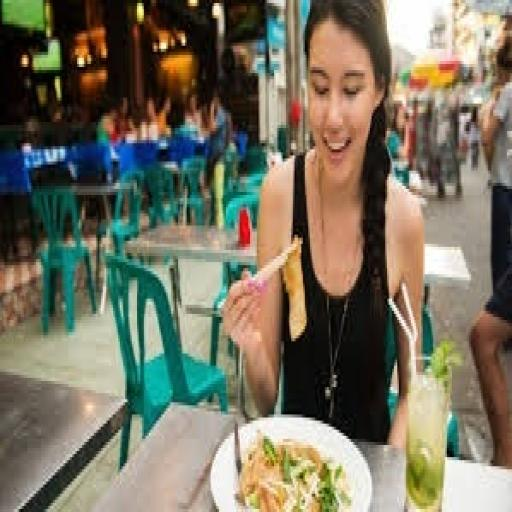eating: (220, 0, 426, 445)
